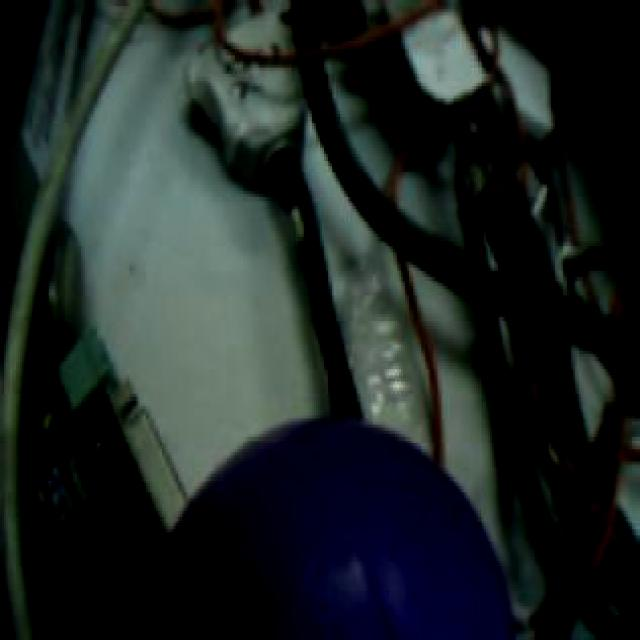BallPurple: (162, 416, 515, 640)
